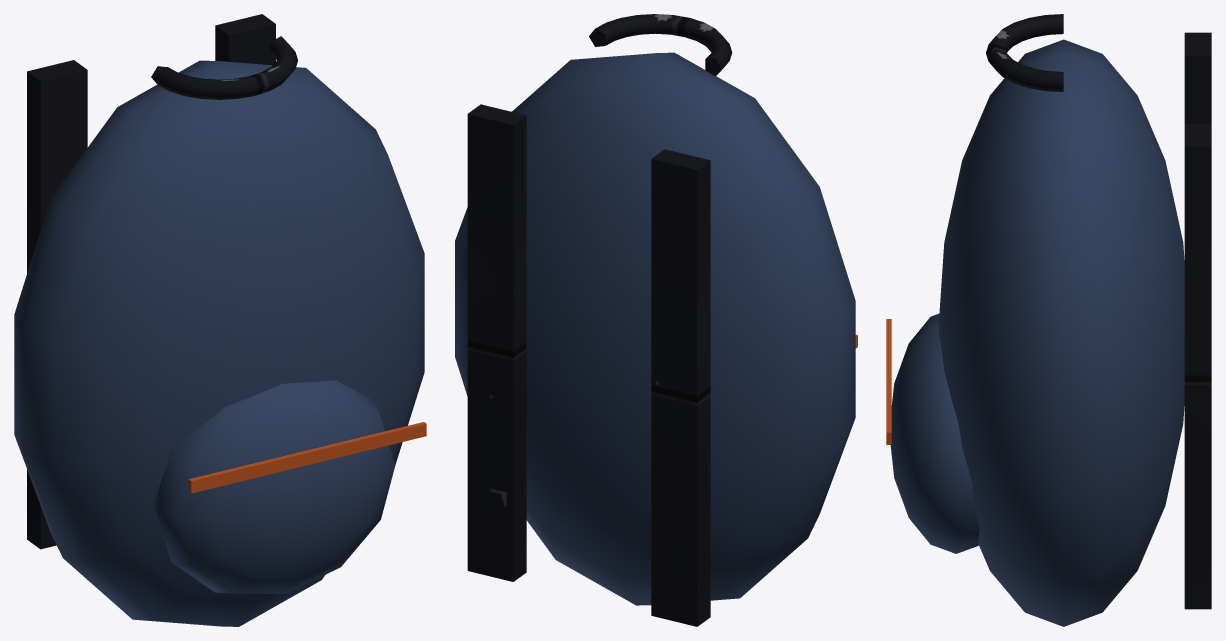
The model's file is Deco_Backpack.gltf.
The picture shows the model from 3 angles, left to right: view 1: azimuth 30°, elevation 25°; view 2: azimuth 150°, elevation 25°; view 3: azimuth 270°, elevation 25°; orthographic projection. The views are drawn at different scales.
Parts seen in each view (by area): view 1: Deco_Backpack; view 2: Deco_Backpack; view 3: Deco_Backpack.
Part boxes in pixels (x1,y1,x2,y2): Deco_Backpack: (14, 14, 426, 626); Deco_Backpack: (455, 14, 857, 626); Deco_Backpack: (886, 14, 1211, 626).
Bounding box in the file's own units: 0.3315 × 0.4671 × 0.242.
Materials: 3 (1 with a texture image).
